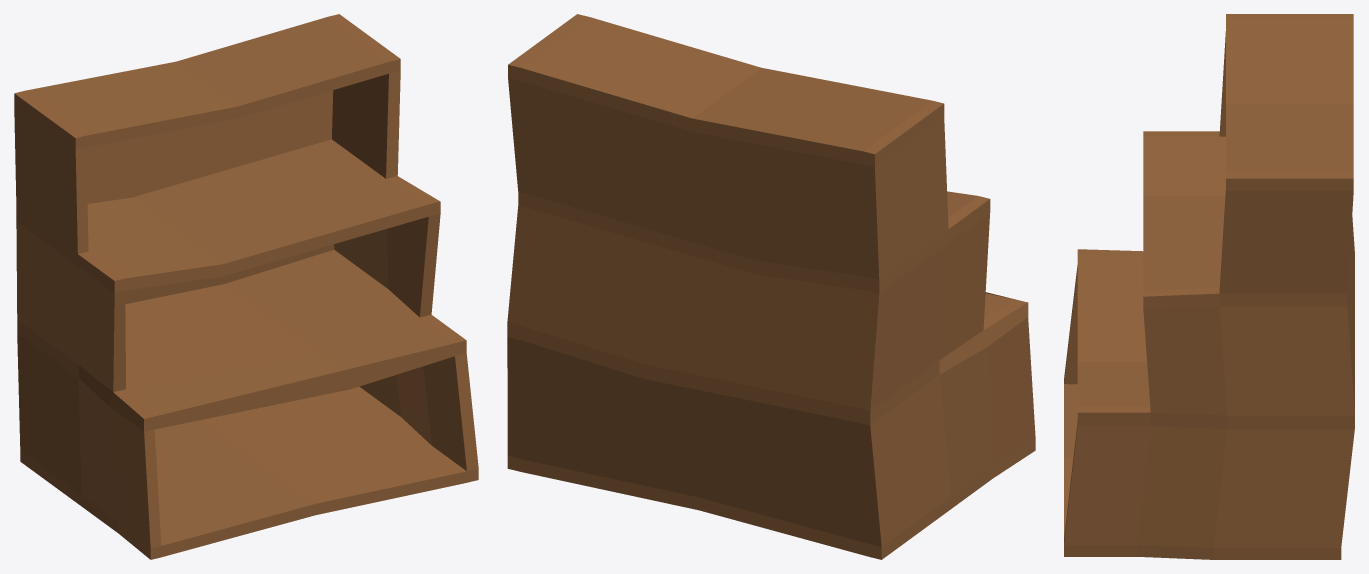
Rendered from Closet7.fbx.
3 renders of one model, left to right at view 1: azimuth 30°, elevation 25°; view 2: azimuth 150°, elevation 25°; view 3: azimuth 270°, elevation 25°, orthographic. The views are drawn at different scales.
Visible parts, largest first — view 1: Cube.276; view 2: Cube.276; view 3: Cube.276.
Part boxes in pixels (<box>): Cube.276: <box>14,14,478,559</box>; Cube.276: <box>507,14,1035,559</box>; Cube.276: <box>1064,14,1354,559</box>.
Bounding box in the file's own units: 628 × 654 × 456.
